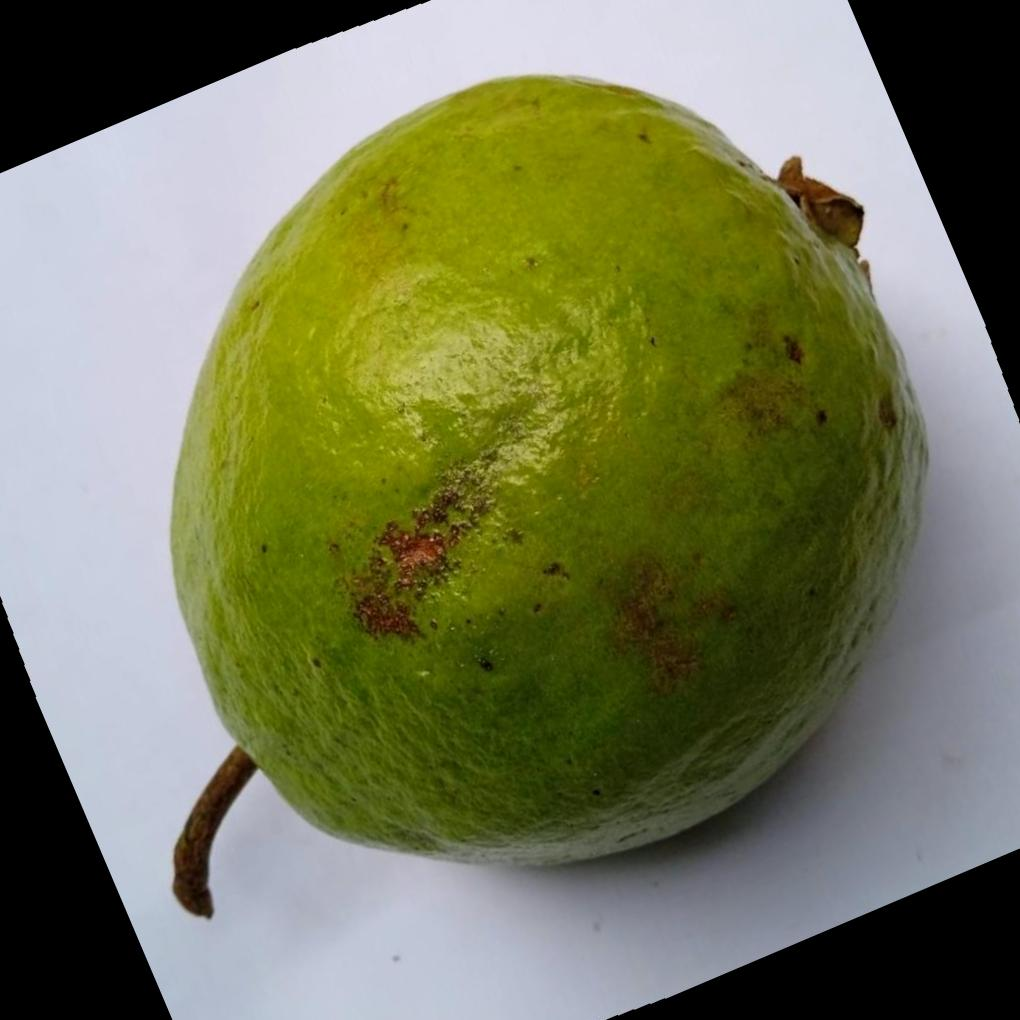FreshGuava: (169, 74, 932, 916)
